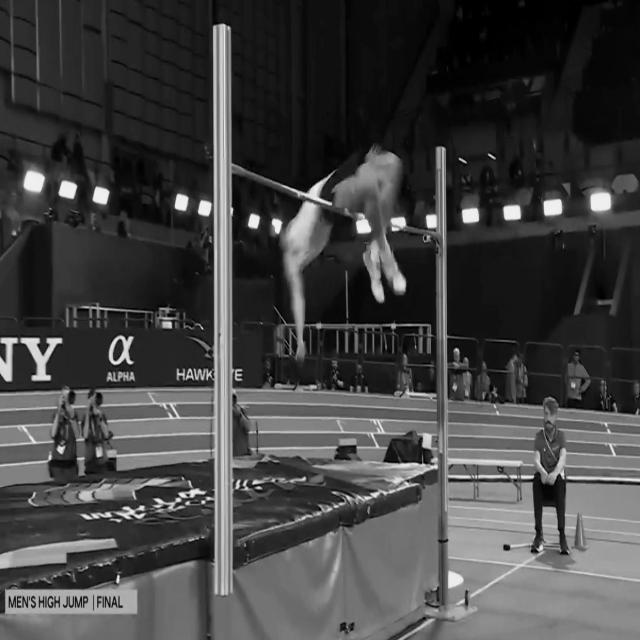jump: (279, 144, 407, 358)
